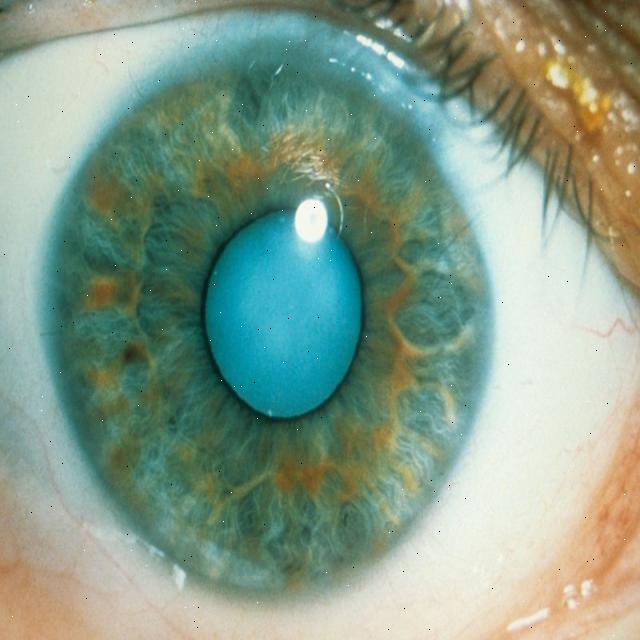Cataract: (45, 34, 494, 614)
